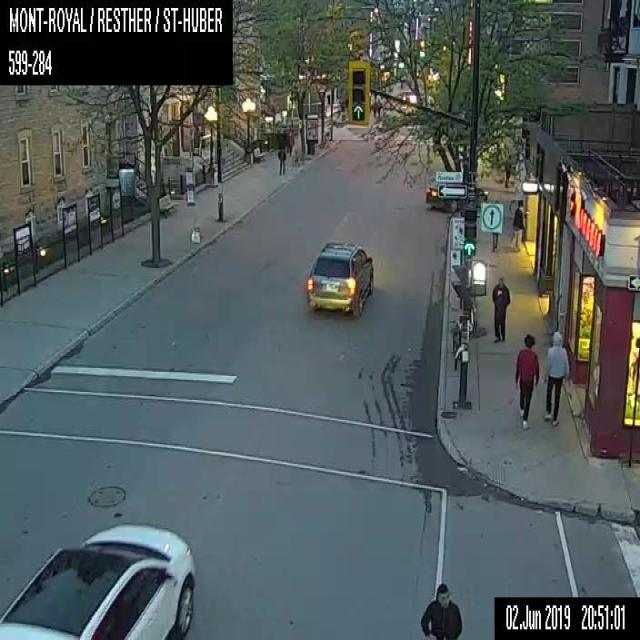pedestrian: (514, 333, 539, 430), (543, 330, 568, 426), (419, 582, 461, 638), (491, 274, 509, 342), (509, 200, 523, 248), (278, 148, 286, 175), (505, 168, 510, 186)
vehicle: (0, 522, 195, 638), (306, 242, 372, 316), (426, 178, 486, 211)
